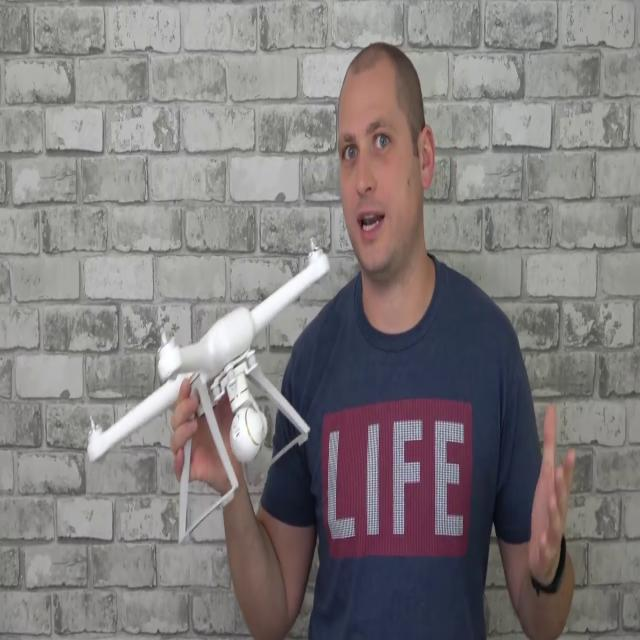drone: (84, 238, 342, 502)
